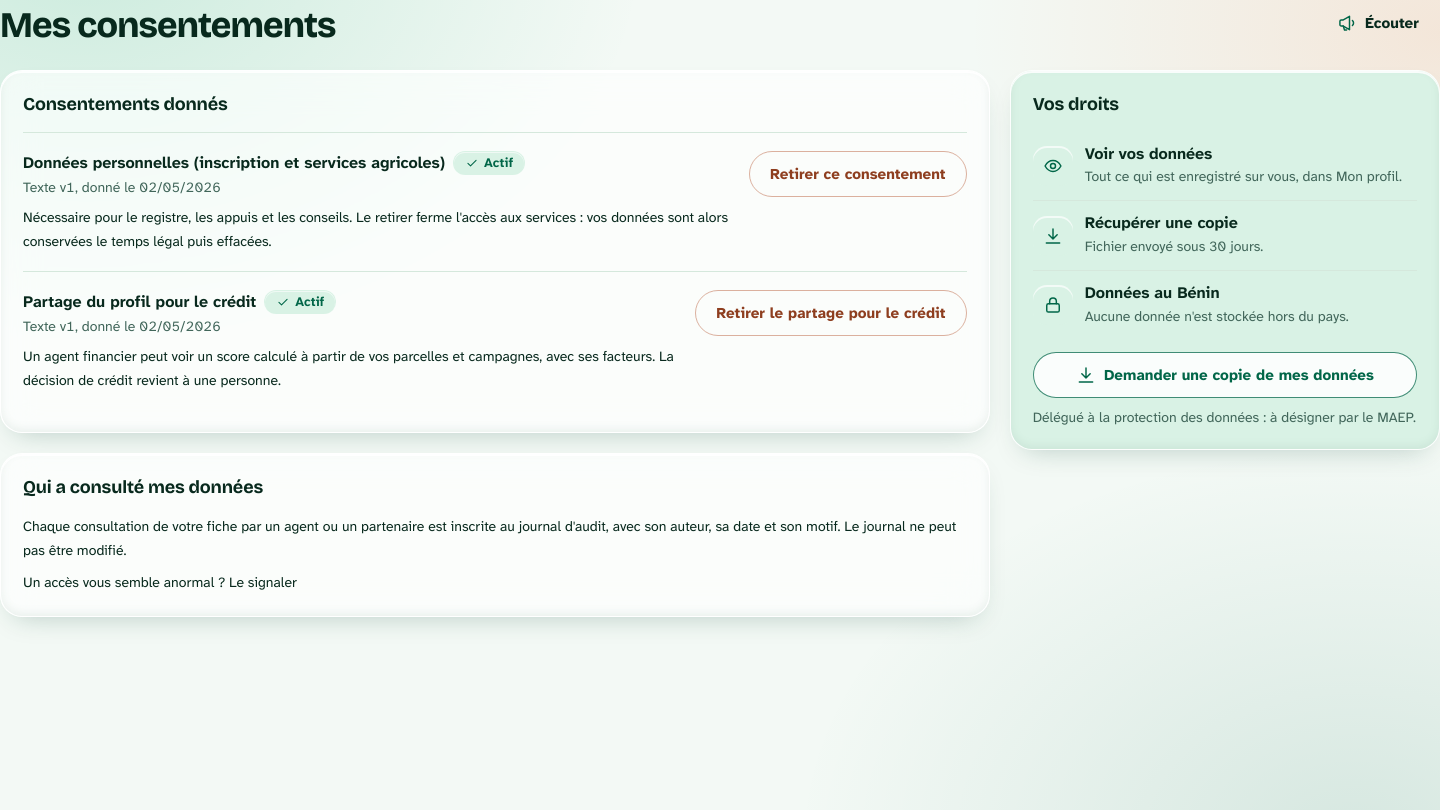
Test: Mes consentements › retirer « Données personnelles » ferme le compte : la session s’arrête
Click the button "Retirer ce consentement". click: point(858, 174)
box: [749,150,967,196]
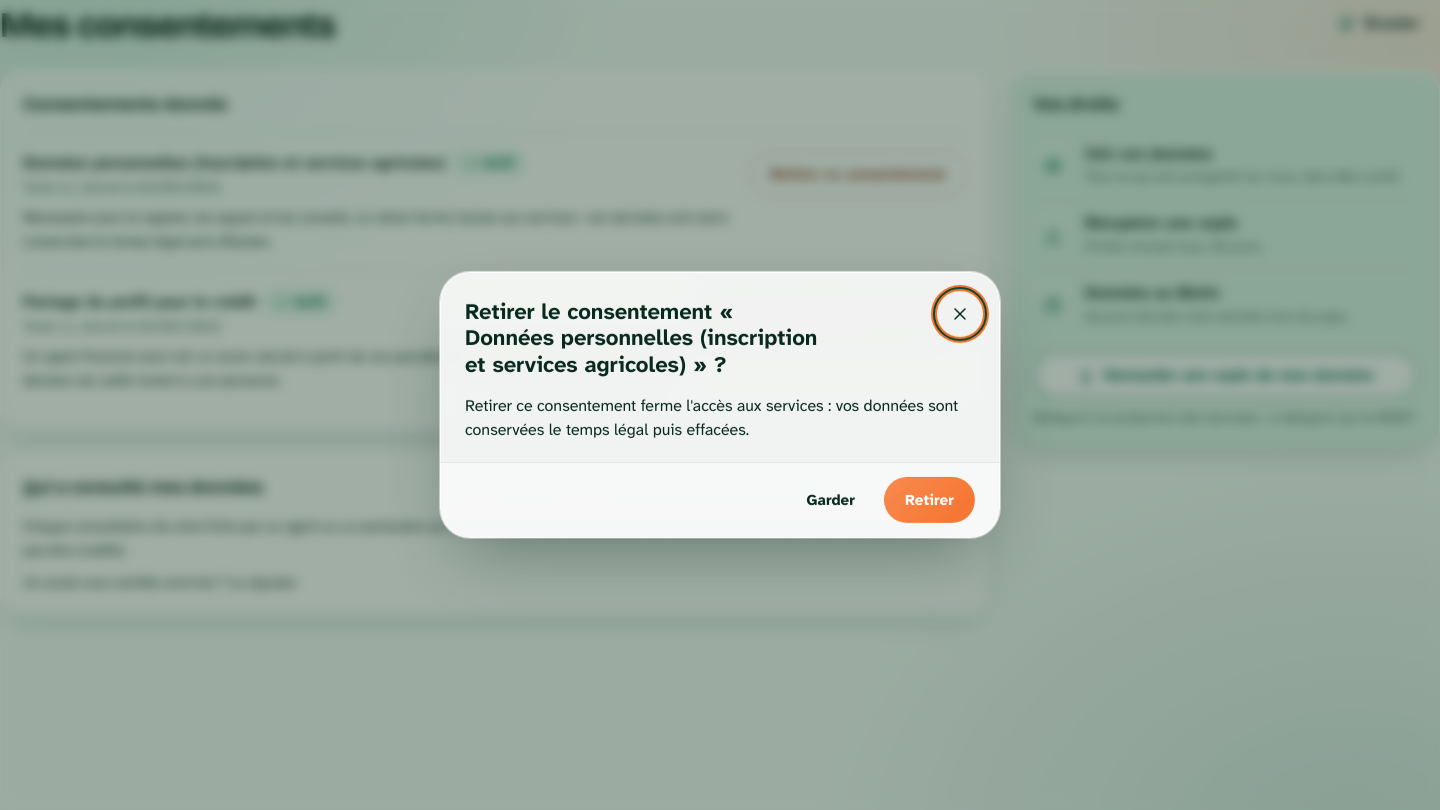
Click the button "Retirer". click: point(930, 500)
box: [884,477,975,523]
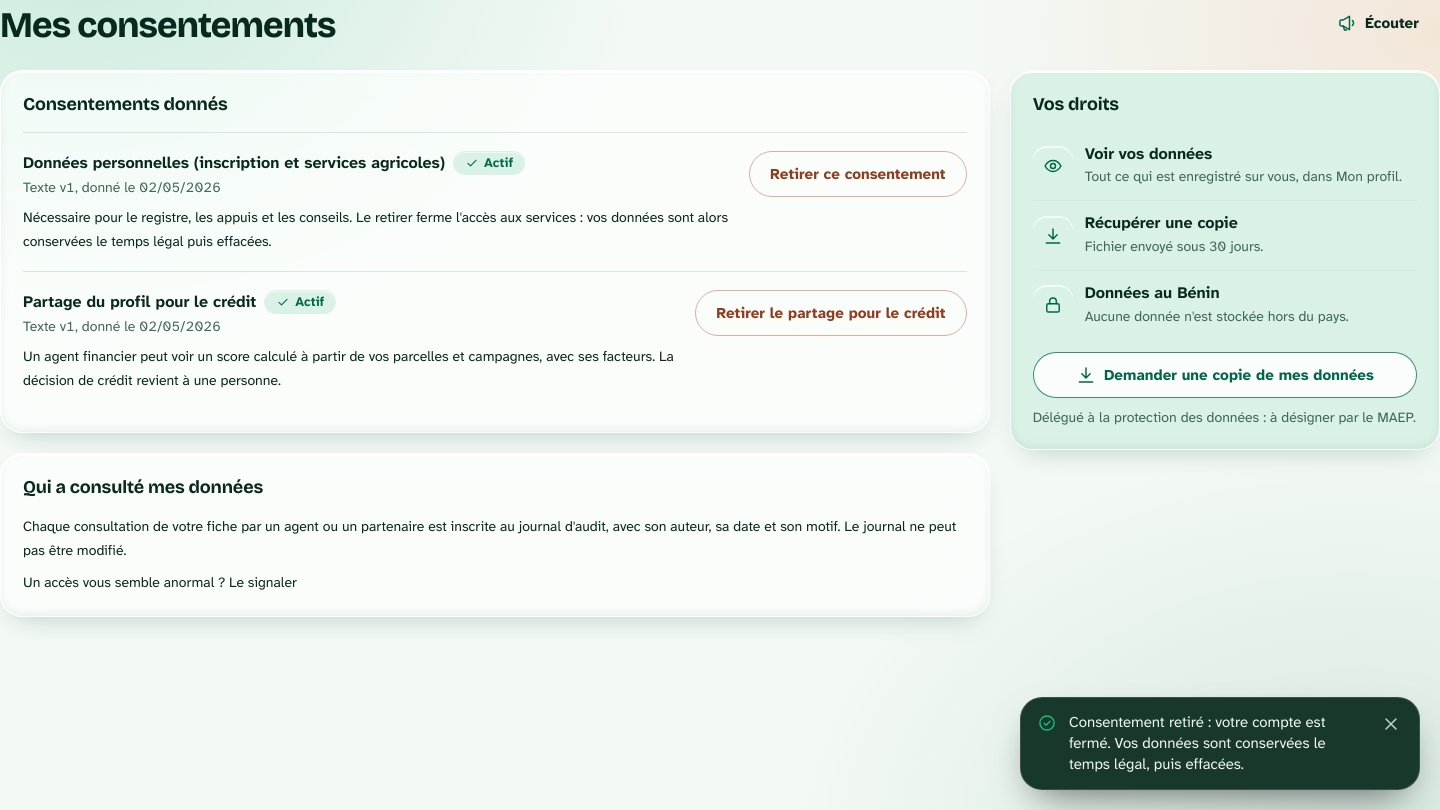
expect the text "votre compte est fermé" is shown: met, box [1069,712,1326,774]
